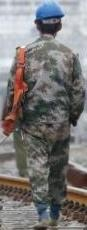boots: (33, 218, 48, 229), (48, 217, 58, 226)
gloves: (0, 118, 15, 135), (69, 115, 78, 127)
hard-hat: (35, 0, 65, 21)
ppe-suit: (0, 35, 87, 221)
